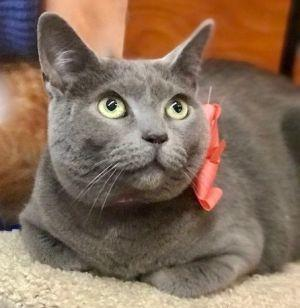rblue: (27, 1, 224, 205)
